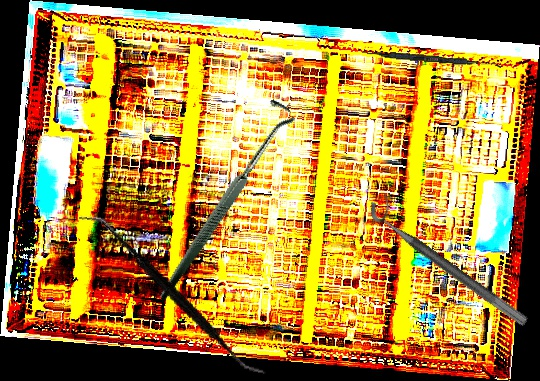Fixation Ring: (363, 190, 539, 328)
Hook Surgical: (103, 94, 341, 302)
Spatula Surgical: (54, 212, 291, 379), (361, 50, 502, 68)
